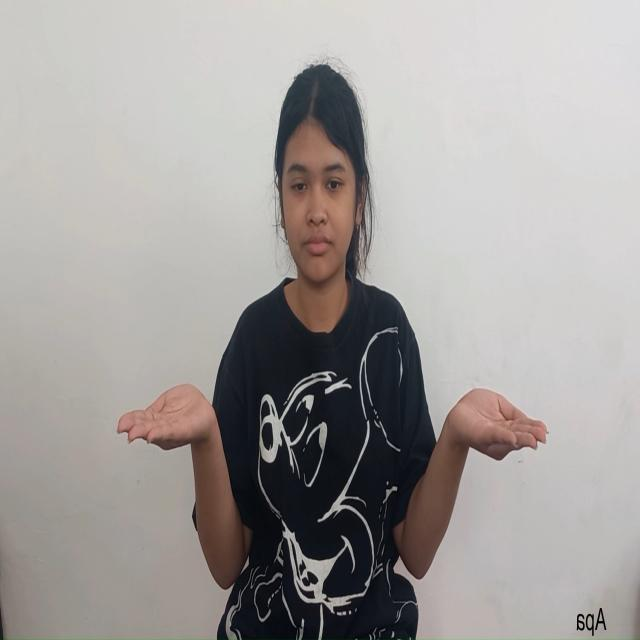Apa -BISINDO-: (112, 375, 551, 603)
